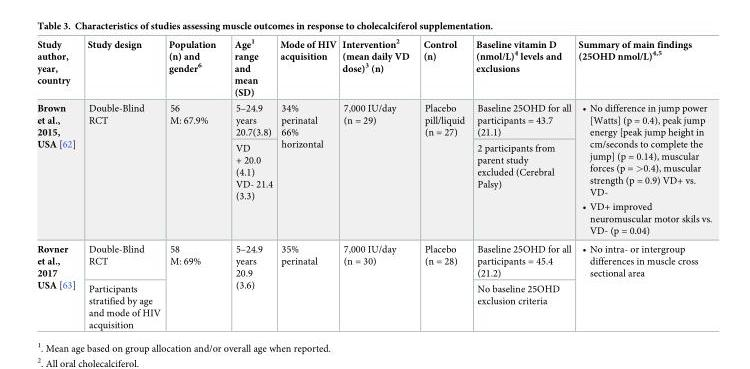table: (36, 37, 711, 329)
table column: (574, 37, 711, 329), (469, 37, 574, 329), (80, 37, 163, 329), (338, 37, 415, 329), (275, 37, 338, 329), (163, 37, 224, 329), (415, 37, 469, 329), (224, 37, 275, 329), (36, 37, 80, 329)
table column header: (36, 37, 711, 100)
table row: (36, 139, 711, 239), (36, 37, 711, 100), (36, 280, 711, 329), (36, 239, 711, 280), (36, 100, 711, 139)
table spanning cell: (574, 100, 711, 239), (574, 239, 711, 329), (80, 100, 163, 239), (338, 100, 415, 239), (275, 100, 338, 239), (163, 100, 224, 239), (415, 100, 469, 239), (338, 239, 415, 329), (36, 100, 80, 239), (275, 239, 338, 329), (163, 239, 224, 329), (415, 239, 469, 329), (224, 239, 275, 329), (36, 239, 80, 329)
